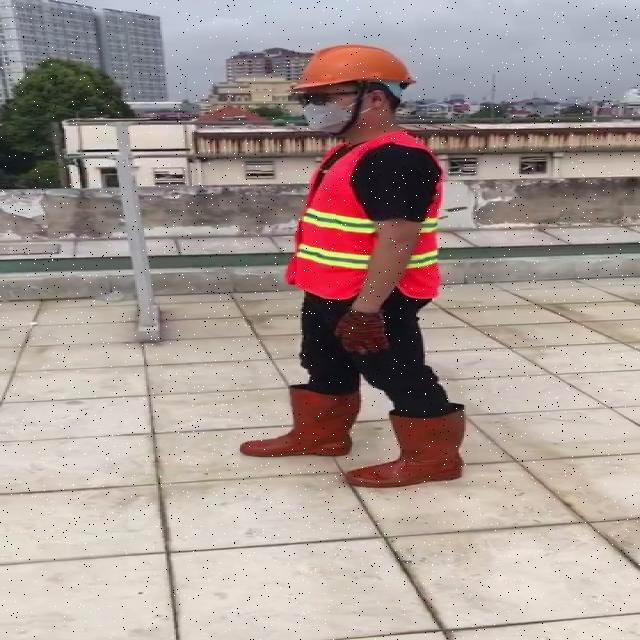Hard_hat: (288, 41, 421, 105)
Person: (239, 34, 483, 496)
Vest: (293, 136, 391, 300)
